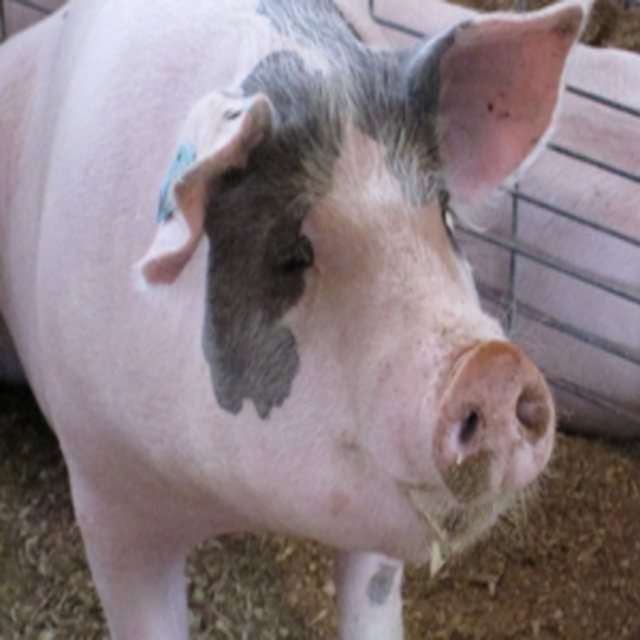Pig: (0, 0, 593, 637)
